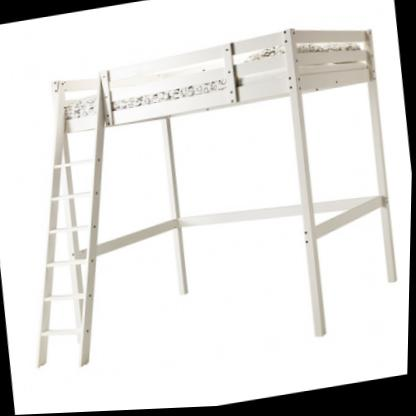Bed: (44, 14, 407, 367)
